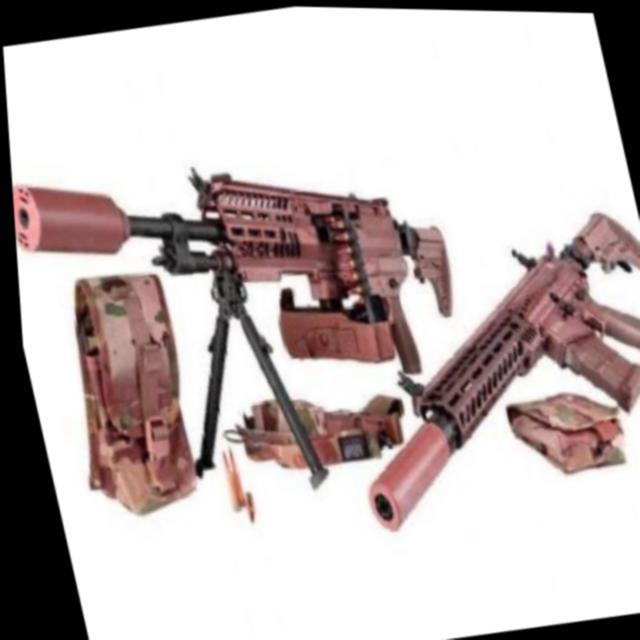weapon: (6, 115, 490, 527), (304, 194, 640, 536)
